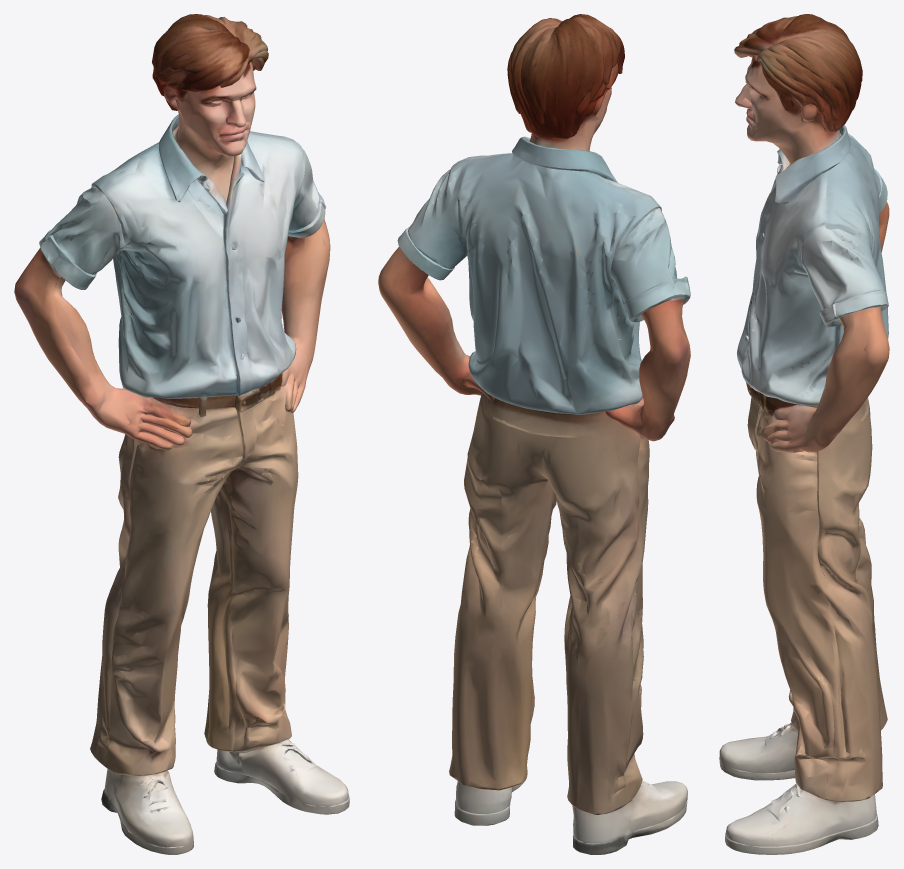
Rendered from civilianNpc.glb.
3 views of the same model, side by side, from view 1: azimuth 30°, elevation 25°; view 2: azimuth 150°, elevation 25°; view 3: azimuth 270°, elevation 25° (orthographic).
Parts seen in each view (by area): view 1: model; view 2: model; view 3: model.
Part boxes in pixels (x1,y1,x2,y2): model: (14, 14, 349, 854); model: (378, 14, 690, 854); model: (719, 14, 889, 854).
Bounding box in the file's own units: 0.766 × 1.9 × 0.3757.
1 material, 1 textured.
